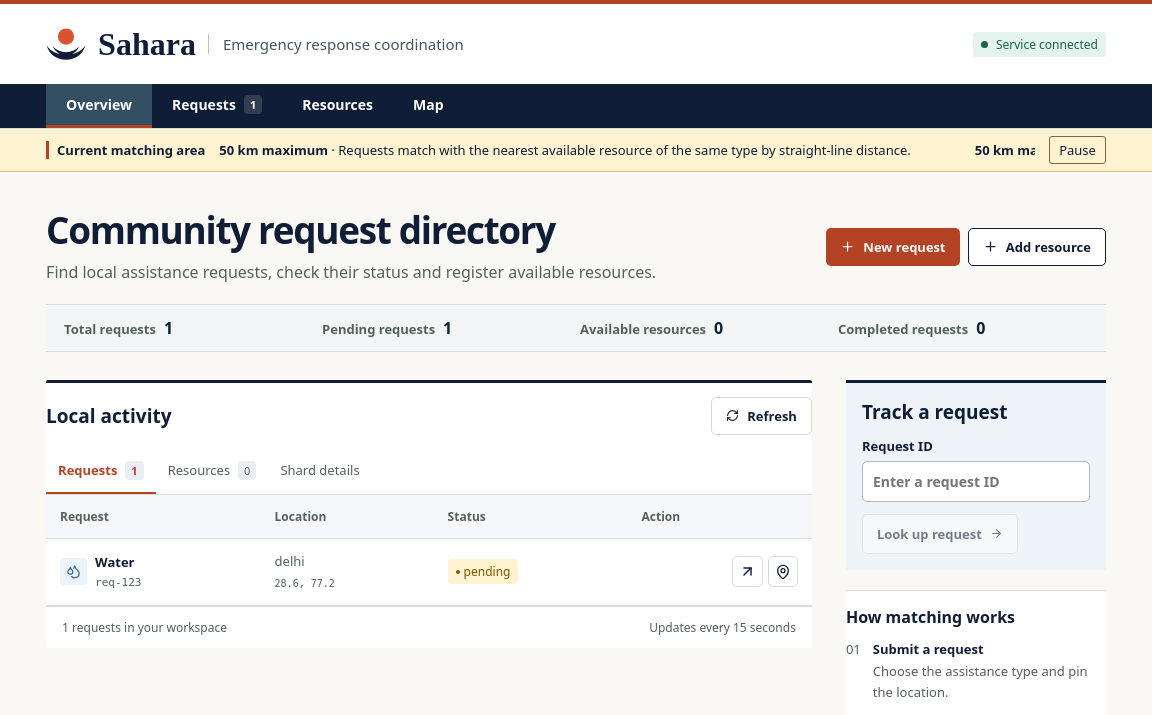
Test: matches a pending request and allows completion only after matching
Click the button named "View request req-123" at (747, 572), box left=732, top=556, right=763, bottom=587
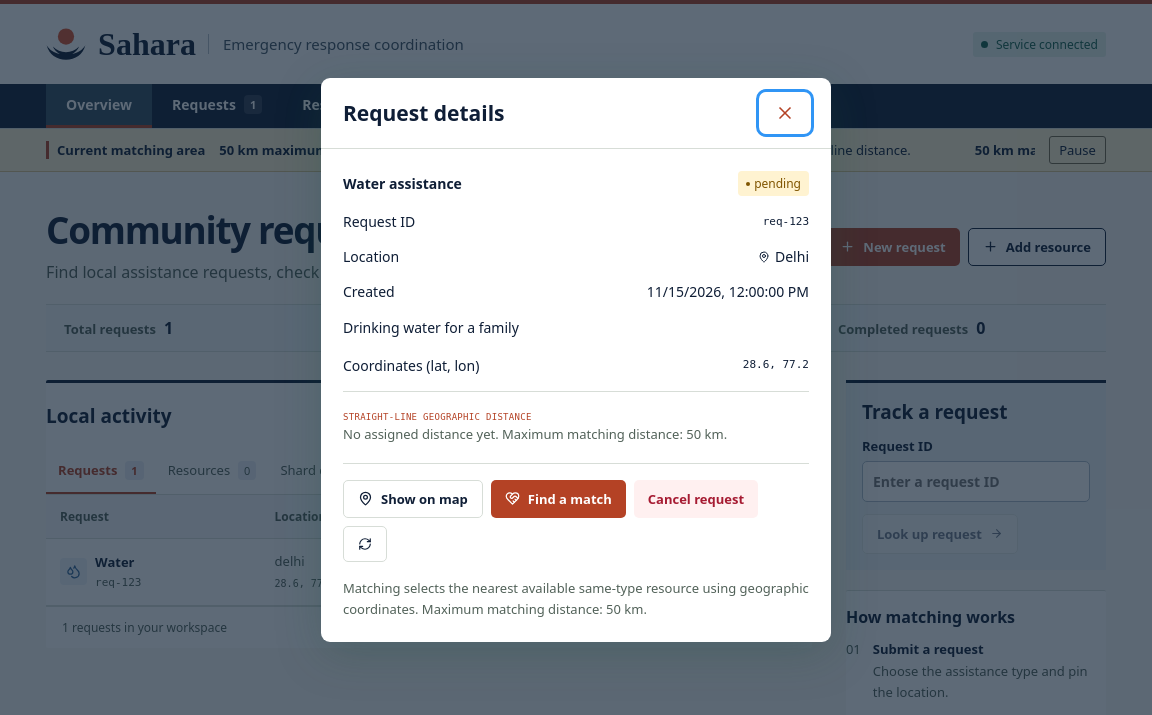
Expected: the button "Mark completed" is not shown
Click the button "Find a match" at (558, 499), box left=491, top=480, right=626, bottom=518
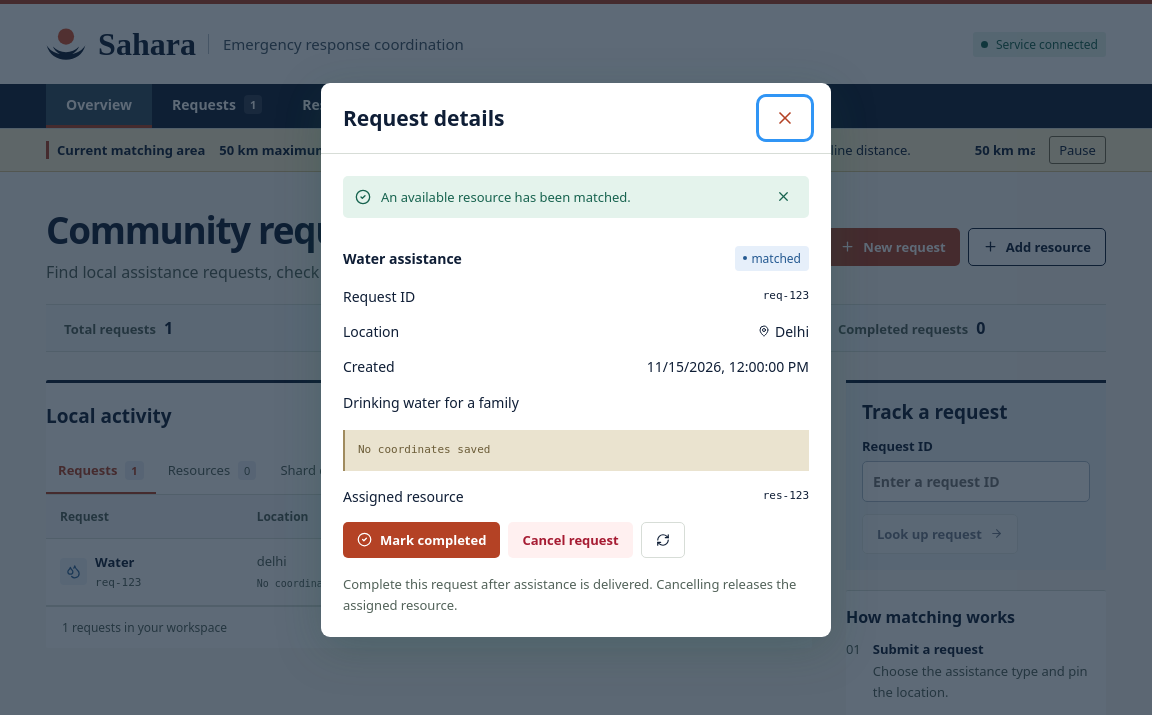
Expected: the text "res-123" is shown, left=763, top=488, right=809, bottom=504
Click the button "Mark completed" at (422, 540), box left=343, top=522, right=500, bottom=558
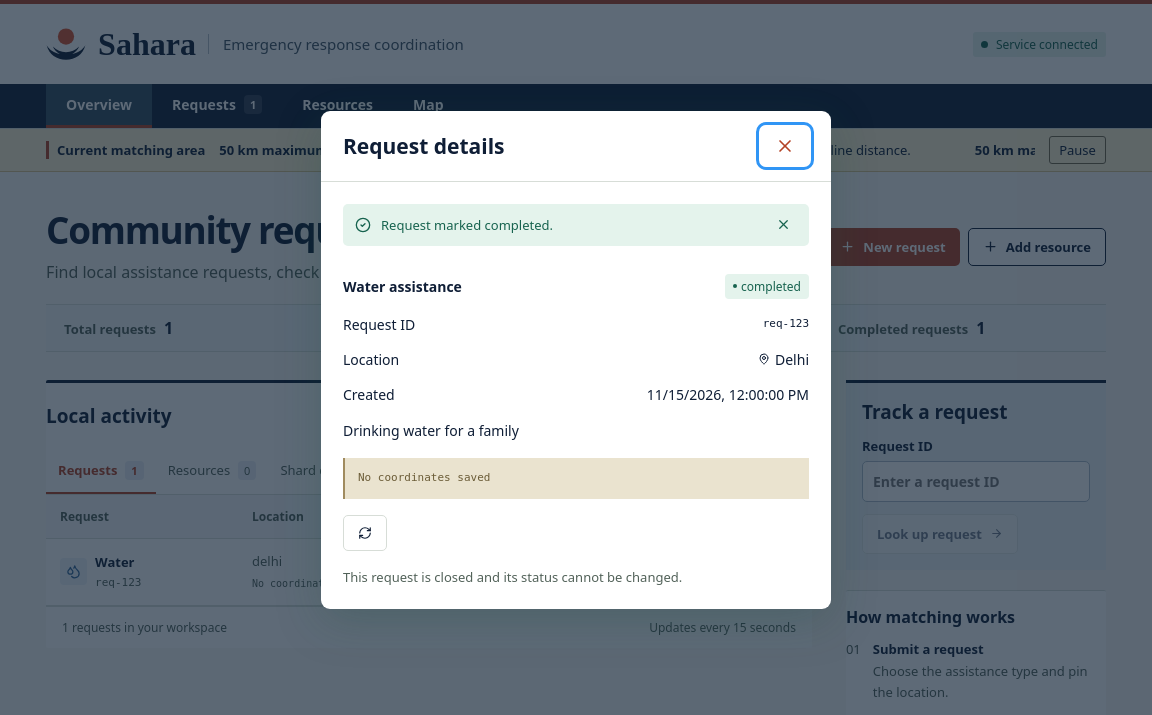
Expected: the button "Find a match" is not shown
Expected: the text "Request marked completed." is shown, left=381, top=216, right=553, bottom=234
